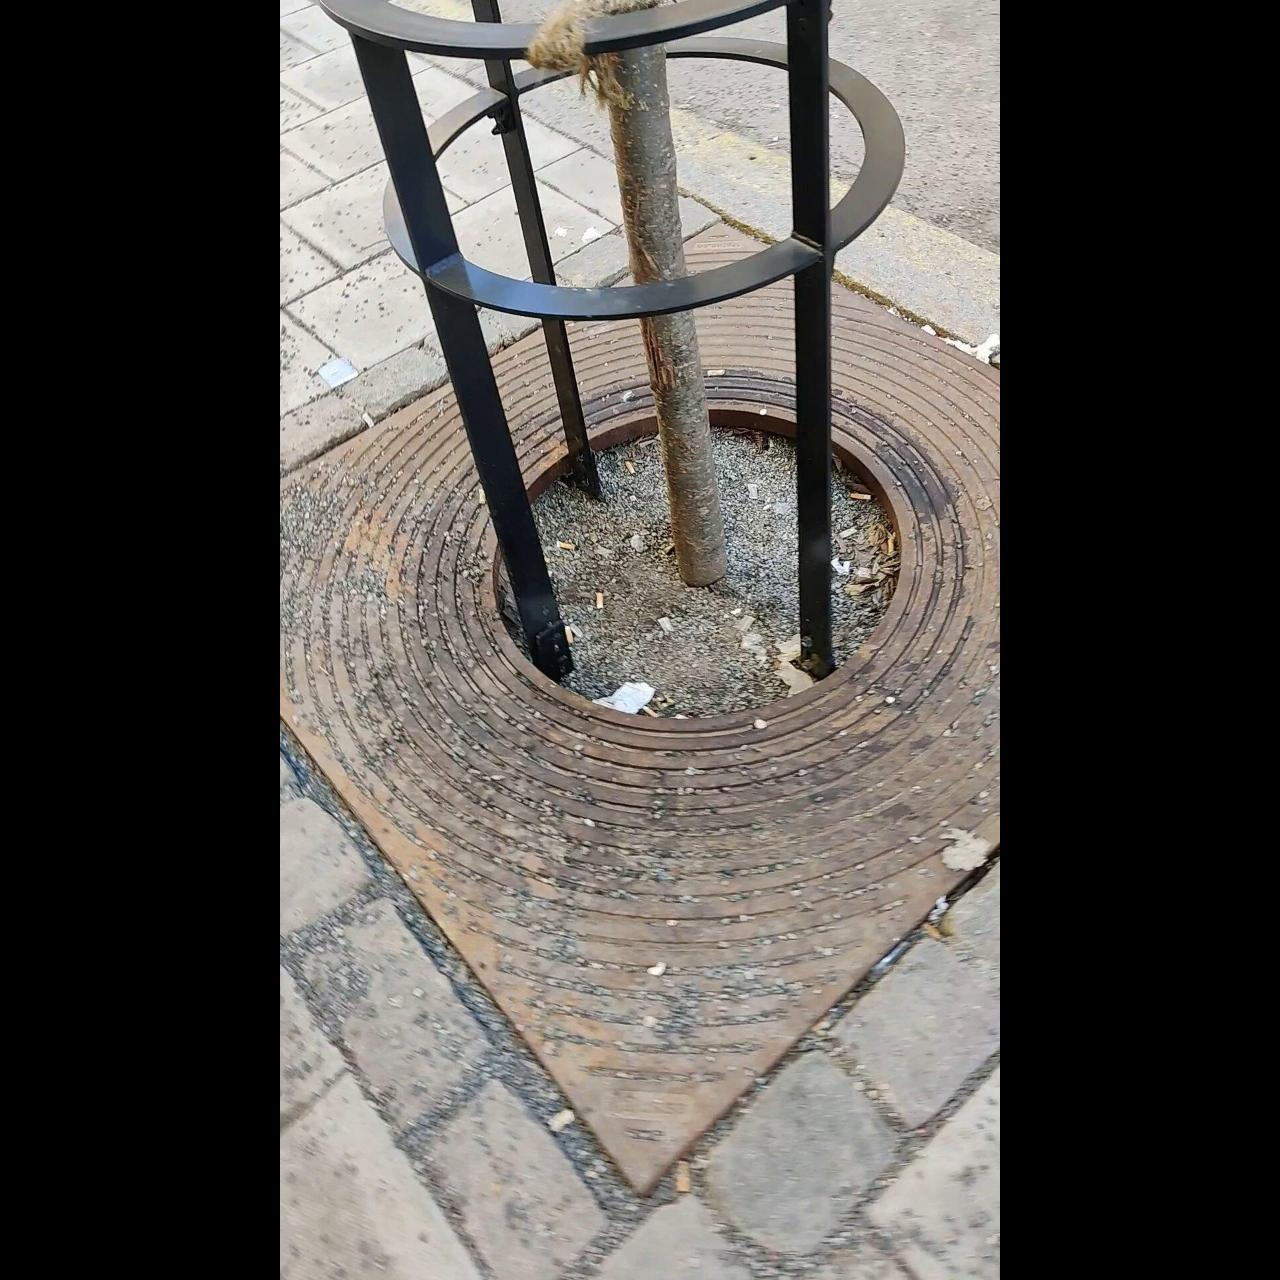cigarettes_butts: (885, 533, 897, 557), (849, 492, 871, 504), (641, 704, 659, 719), (556, 537, 576, 549), (626, 459, 638, 477), (704, 368, 726, 377), (565, 624, 573, 644), (597, 592, 604, 612)
others: (659, 618, 675, 636), (838, 525, 862, 538), (745, 483, 760, 499)
